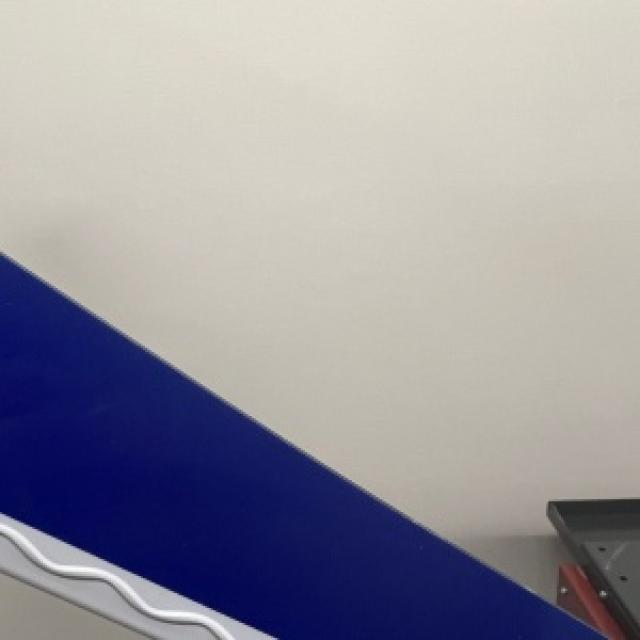healthy: (0, 256, 599, 638)
